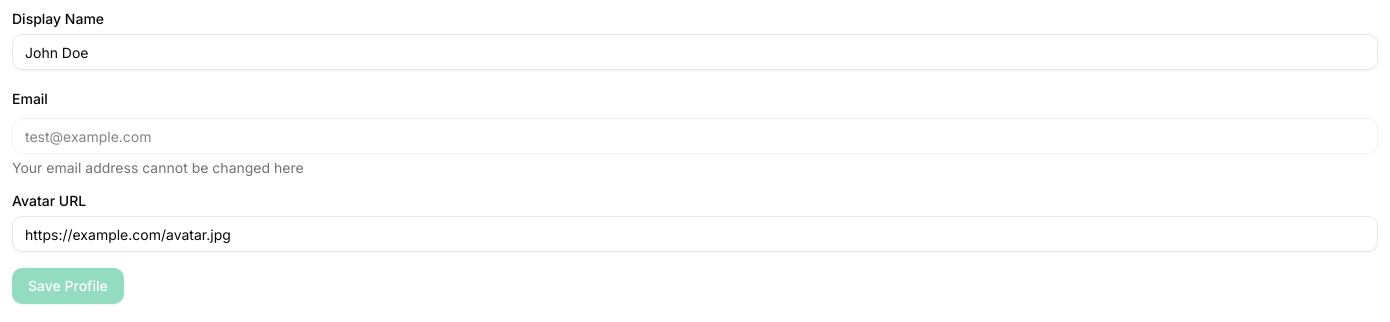
ProfileForm › restores accepted details and explains how to recover after rejection
Step 1. Replace the text in the field showing "John Doe" with "Jane Doe" → x=695, y=52, box [12,34,1378,70]
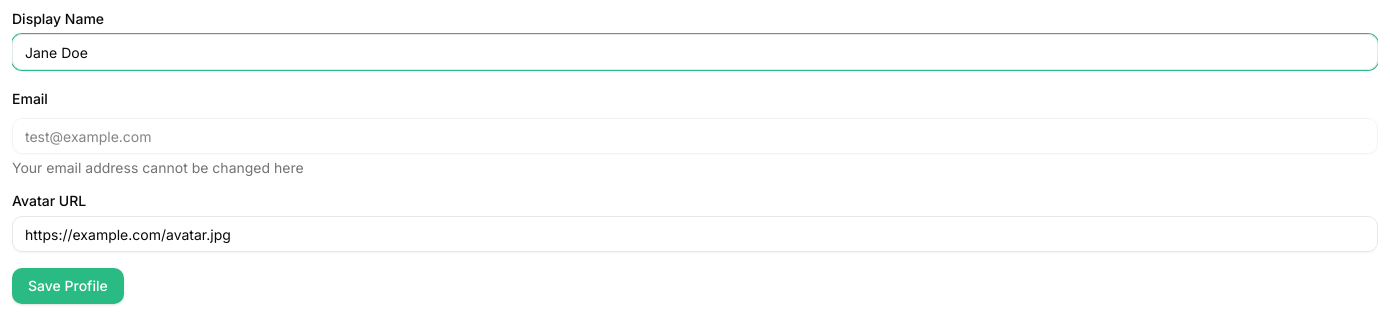
Step 2. Type "https://example.com/new-avatar.jpg" into the field showing "https://example.com/avatar.jpg" → x=695, y=234, box [12,216,1378,252]
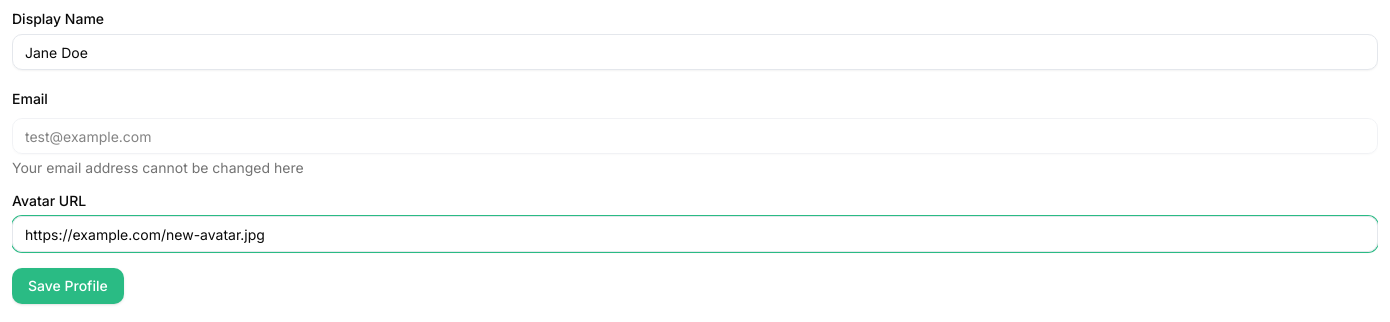
Step 3. Click the button "Save Profile" → x=68, y=286, box [12,268,124,304]
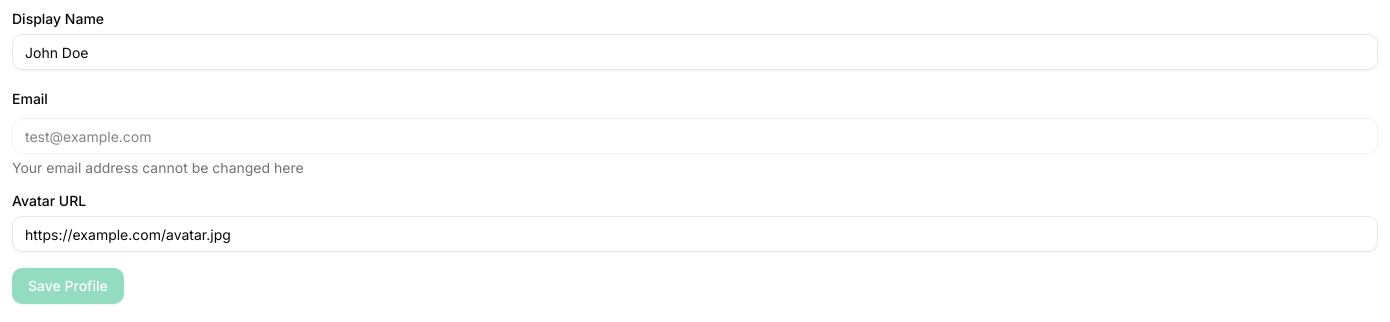
Expected: the field showing "https://example.com/avatar.jpg" is shown, [12,216,1378,252]
Expected: the field showing "John Doe" is shown, [12,34,1378,70]
